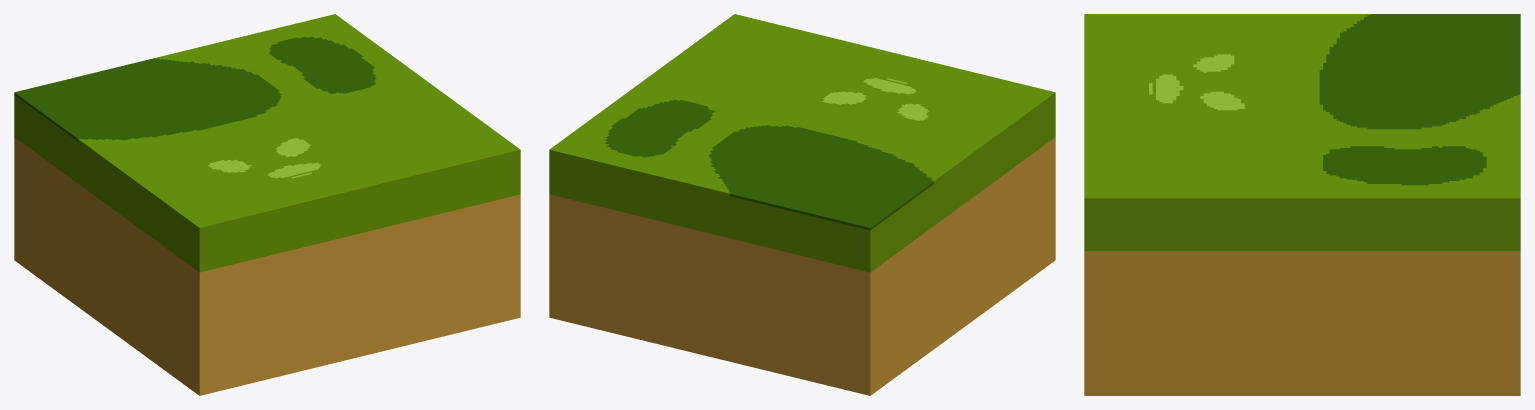
3 views of the same model, side by side, from view 1: azimuth 30°, elevation 25°; view 2: azimuth 150°, elevation 25°; view 3: azimuth 270°, elevation 25° (orthographic). The views are drawn at different scales.
Parts seen in each view (by area): view 1: 7M; view 2: 7M; view 3: 7M.
Part boxes in pixels (x1=…): 7M: x1=14, y1=14, x2=520, y2=395; 7M: x1=549, y1=14, x2=1055, y2=395; 7M: x1=1084, y1=14, x2=1520, y2=395.
Bounding box in the file's own units: 12.8 × 6.4 × 12.8.
Materials: 1 (1 with a texture image).
